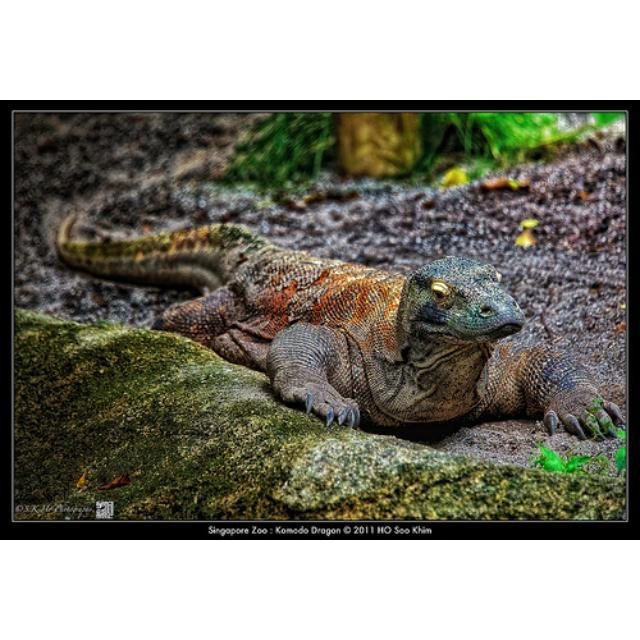KomodoDragon: (52, 211, 626, 440)
